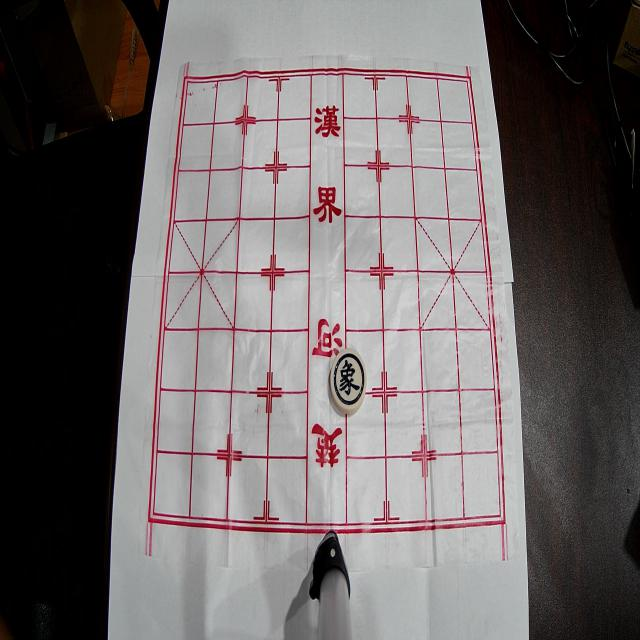black-elephant: (331, 348, 366, 414)
